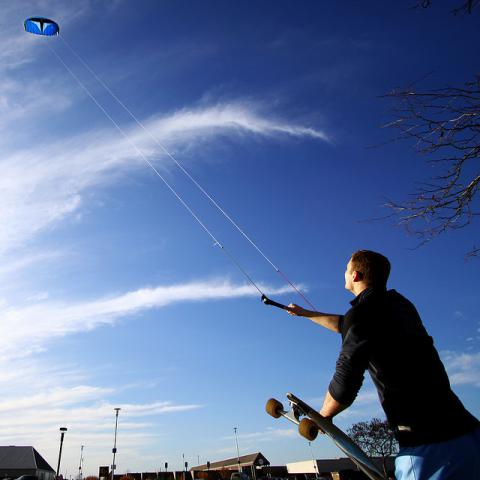car: (14, 474, 42, 479)
